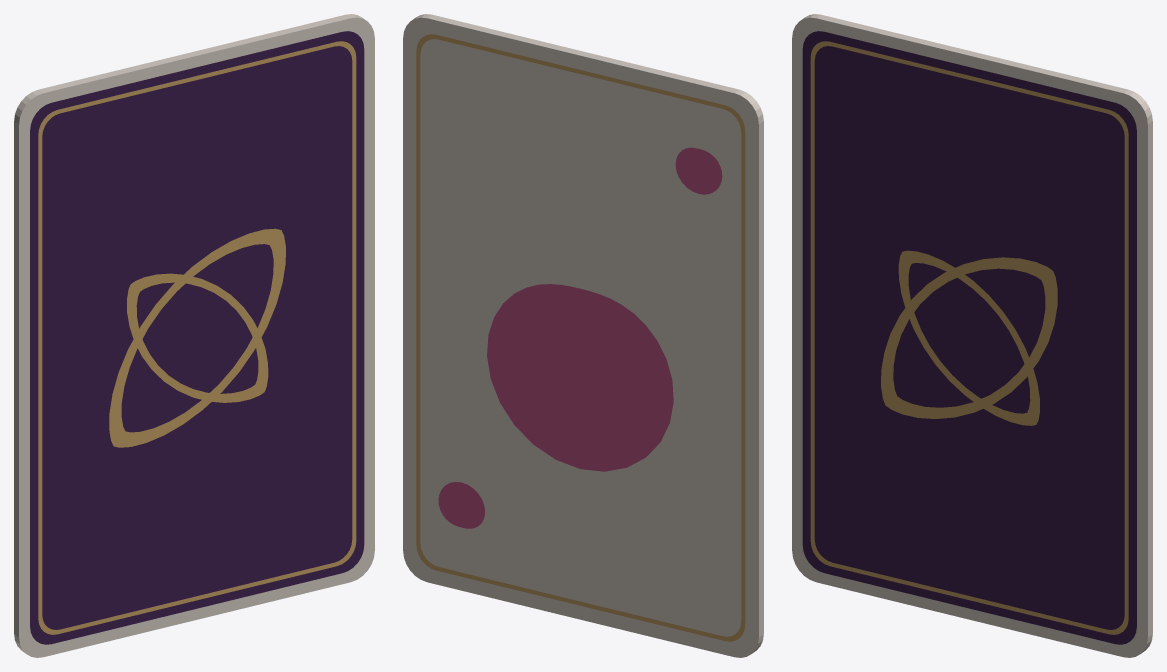
The model's file is card-drop.glb.
3 renders of one model, left to right at view 1: azimuth 30°, elevation 25°; view 2: azimuth 150°, elevation 25°; view 3: azimuth 330°, elevation 25°, orthographic.
Parts seen in each view (by area): view 1: card_drop; view 2: card_drop; view 3: card_drop.
Boxes of the visible parts, box(x1,y1,x2,y2) form: card_drop: box(14, 14, 374, 657); card_drop: box(403, 14, 763, 657); card_drop: box(792, 14, 1152, 657).
Size of the model in its own units: 0.66 by 1 by 0.02.
